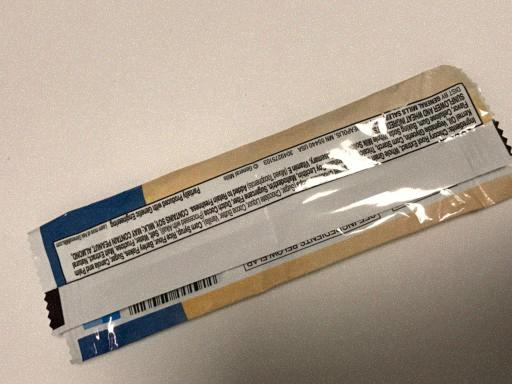trash: (30, 61, 512, 368)
